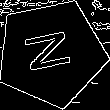N_E: (22, 29, 80, 78)
